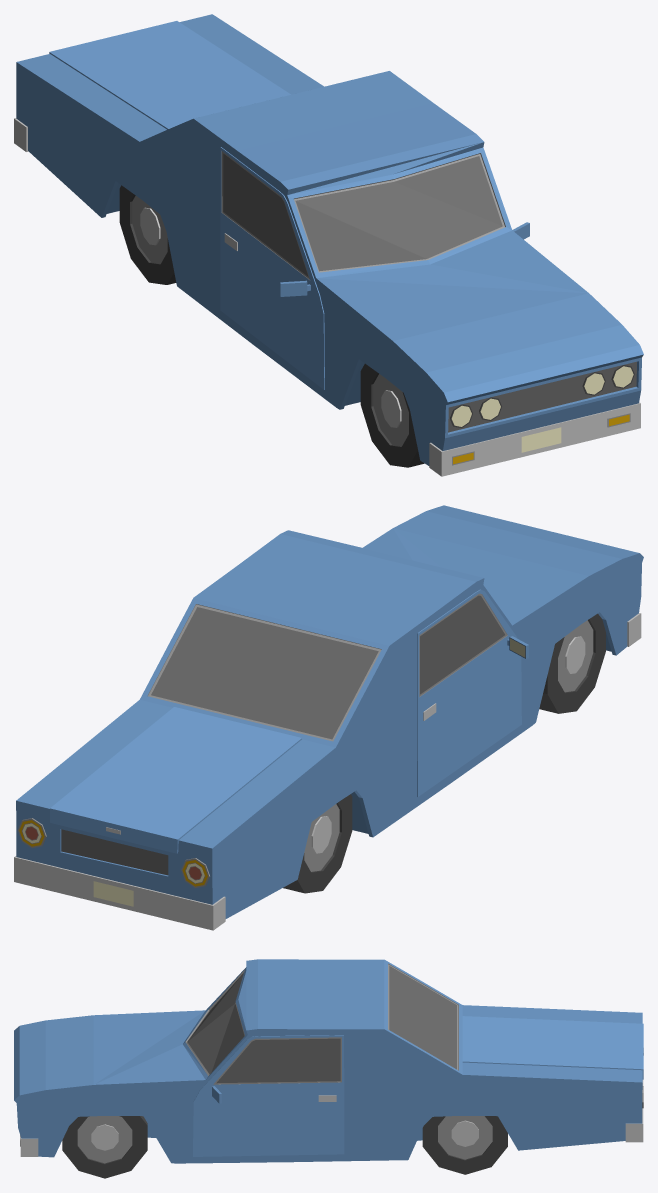
The model's file is vintage car1.fbx.
3 renders of one model, top to bottom at view 1: azimuth 30°, elevation 25°; view 2: azimuth 150°, elevation 25°; view 3: azimuth 270°, elevation 25°, orthographic. The views are drawn at different scales.
Parts seen in each view (by area): view 1: gdfg, Cylinder_2_3, Cylinder_2_2; view 2: gdfg, Cylinder_2_3, Cylinder_2_2; view 3: gdfg, Cylinder_2, Cylinder_2_1.
Part boxes in pixels (bbox=[...]): gdfg: bbox=[14, 14, 643, 476]; Cylinder_2_3: bbox=[360, 363, 424, 467]; Cylinder_2_2: bbox=[119, 185, 176, 284]; gdfg: bbox=[14, 505, 643, 930]; Cylinder_2_3: bbox=[539, 613, 605, 713]; Cylinder_2_2: bbox=[283, 794, 352, 893]; gdfg: bbox=[14, 959, 643, 1163]; Cylinder_2: bbox=[62, 1116, 147, 1178]; Cylinder_2_1: bbox=[422, 1116, 507, 1174].
Size of the model in its own units: 169 by 134 by 508.
